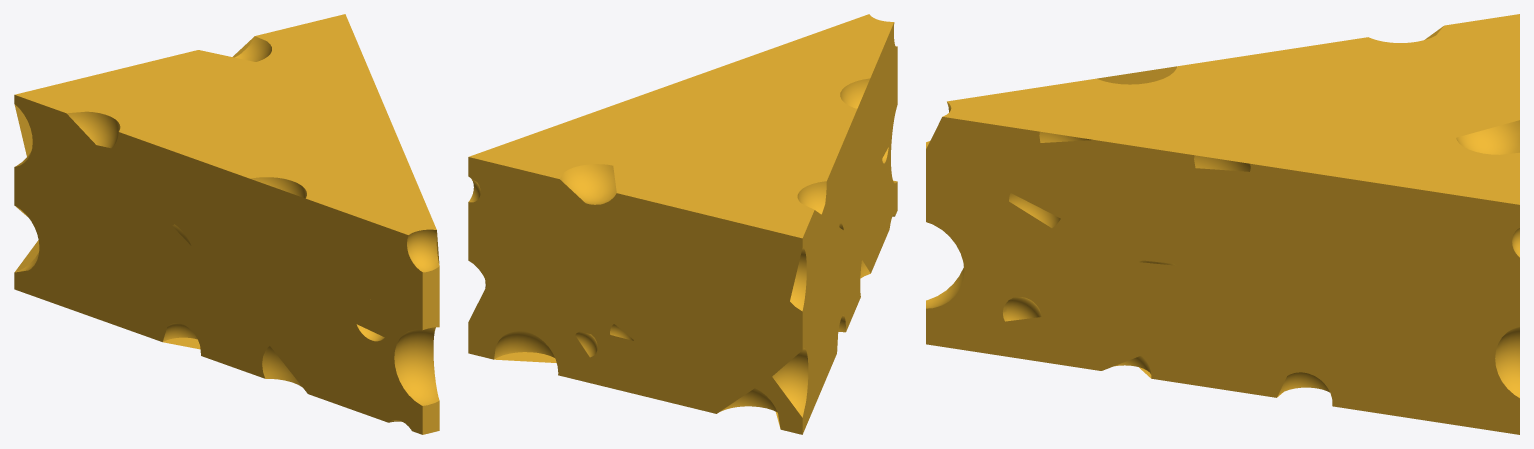
3 renders of one model, left to right at view 1: azimuth 30°, elevation 25°; view 2: azimuth 150°, elevation 25°; view 3: azimuth 270°, elevation 25°, orthographic. The views are drawn at different scales.
Visible parts, largest first — view 1: Cheese; view 2: Cheese; view 3: Cheese.
Boxes of the visible parts, box(x1,y1,x2,y2) form: Cheese: box(14, 14, 439, 434); Cheese: box(468, 14, 897, 434); Cheese: box(926, 14, 1519, 434).
Bounding box in the file's own units: 178 × 100 × 234.
